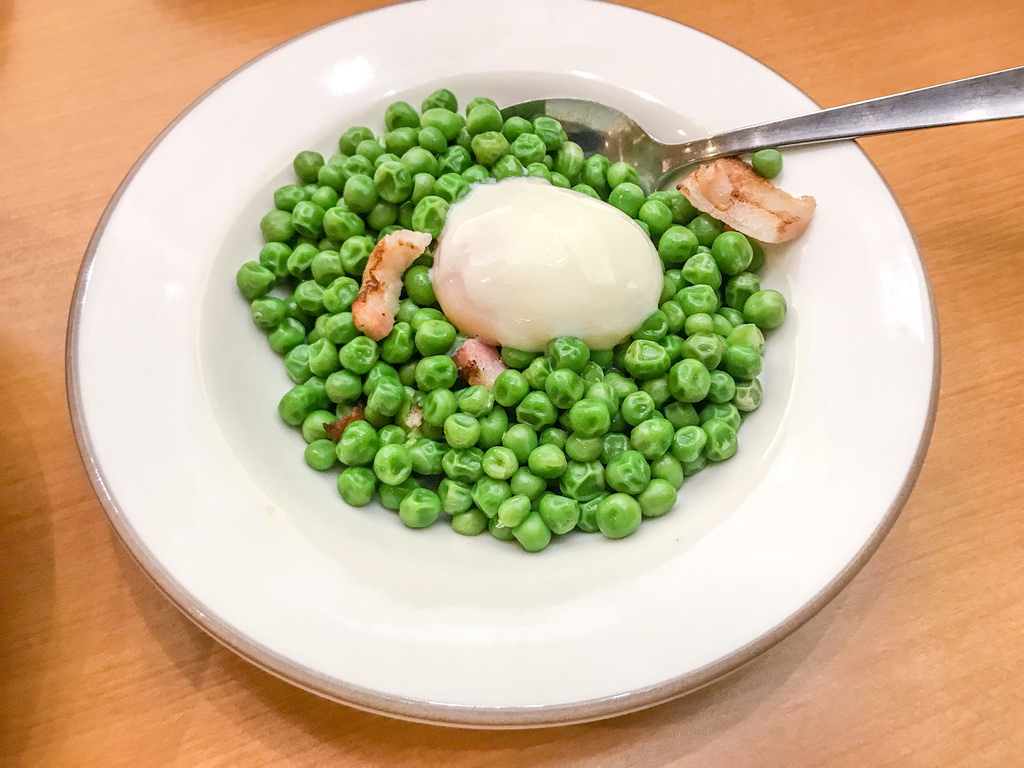boiled peas: (260, 321, 776, 545), (230, 89, 444, 328), (400, 86, 654, 191), (663, 211, 788, 342)
